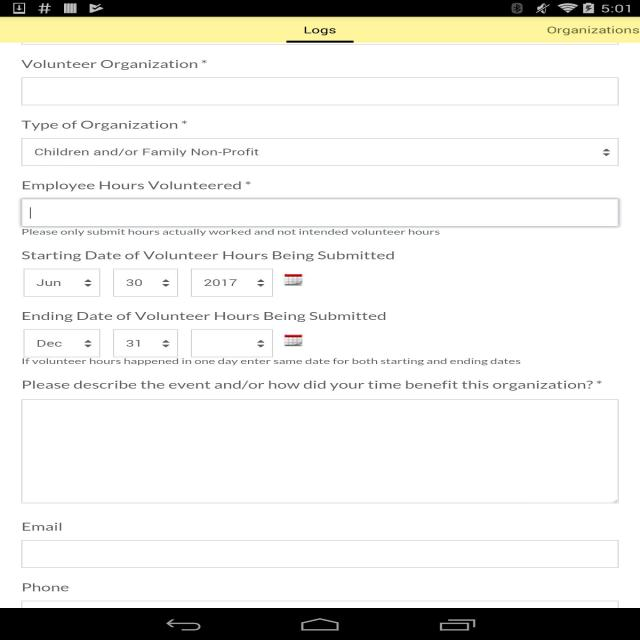button: (22, 399, 619, 504), (21, 137, 620, 167), (22, 540, 619, 568), (192, 329, 272, 357), (26, 267, 100, 297), (23, 329, 99, 358), (193, 269, 272, 296), (544, 20, 640, 42), (113, 329, 178, 357), (115, 269, 176, 297), (286, 21, 353, 42)
field: (21, 77, 617, 106), (22, 199, 620, 225)
heading: (21, 378, 604, 390), (21, 310, 390, 324), (21, 249, 398, 262), (18, 179, 257, 192), (21, 56, 210, 71), (22, 118, 192, 130), (21, 581, 70, 595), (22, 520, 62, 534)
image: (282, 333, 305, 348), (285, 273, 302, 287)
label: (31, 148, 263, 160)
text: (20, 358, 524, 367), (20, 227, 442, 237), (32, 274, 69, 290), (200, 276, 242, 290), (32, 336, 66, 350), (124, 276, 146, 288), (122, 338, 146, 348)
